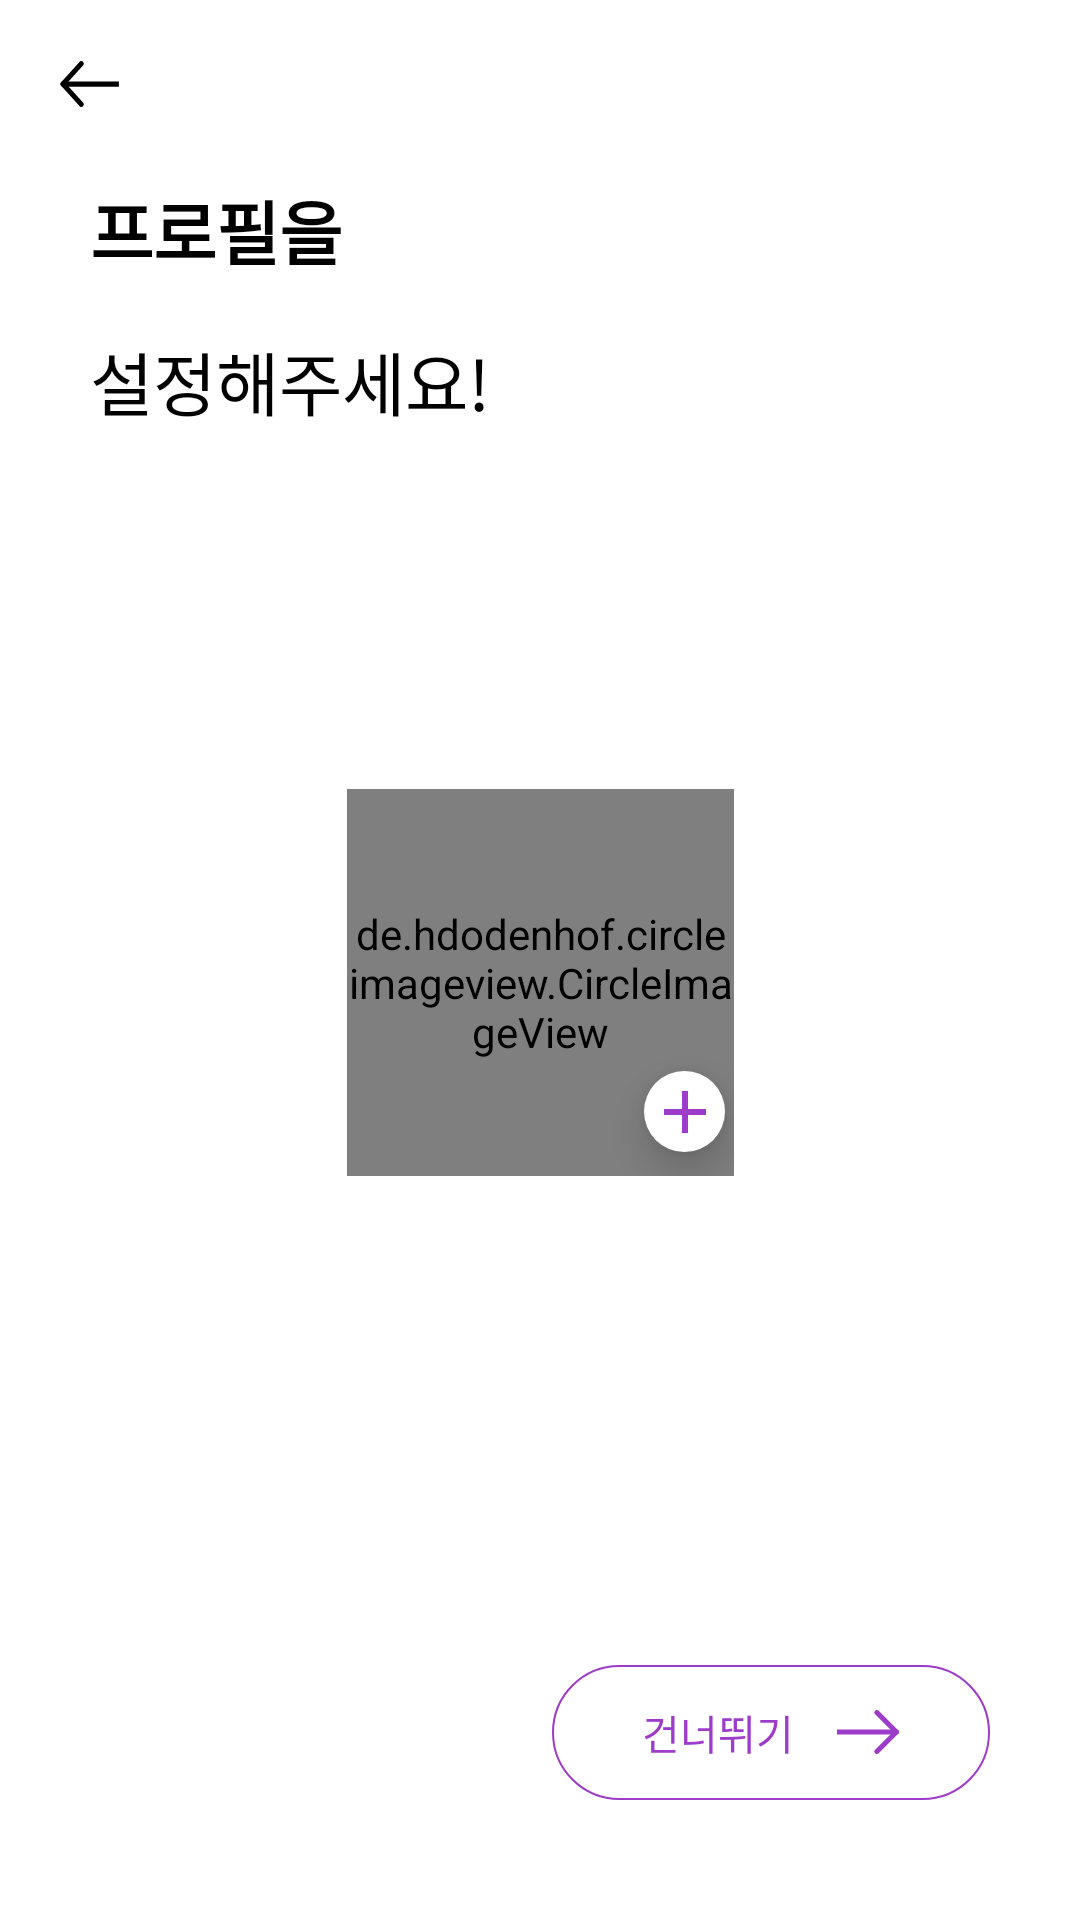

Icon click points for this 1080px x 1920px phone screenshot, format point (x, y):
add: point (684, 1111)
back: point (89, 84)
next: point (868, 1732)
